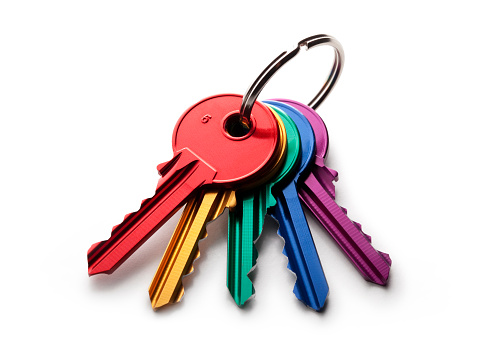key: (83, 31, 395, 318)
